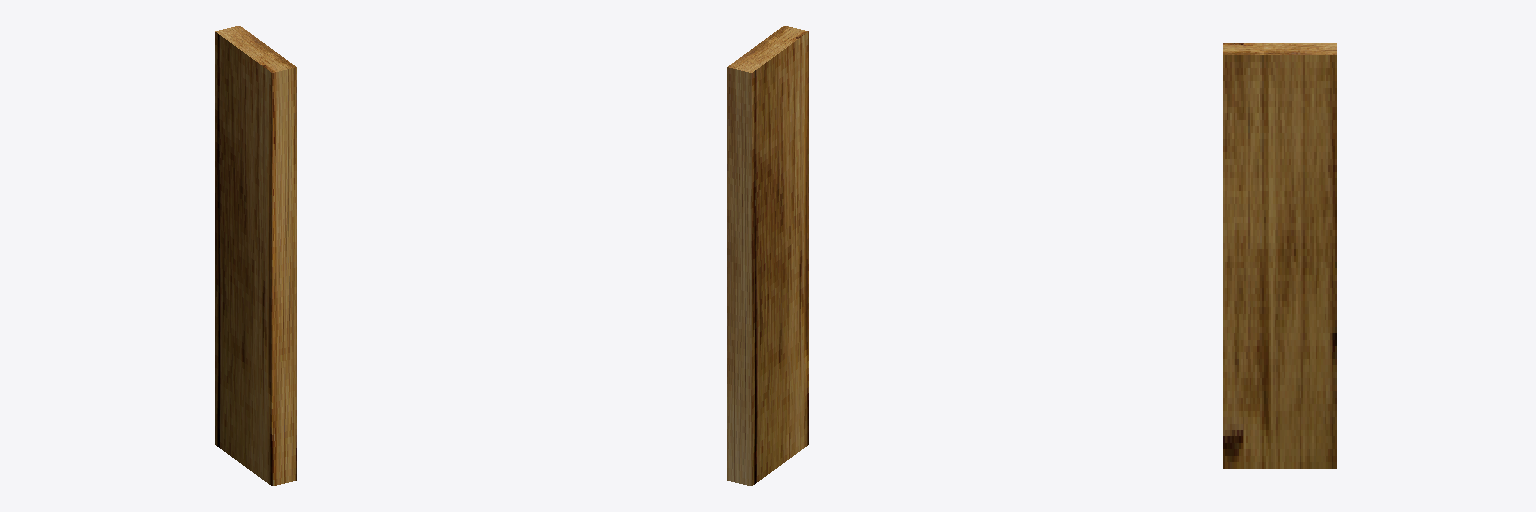
3 renders of one model, left to right at view 1: azimuth 30°, elevation 25°; view 2: azimuth 150°, elevation 25°; view 3: azimuth 270°, elevation 25°, orthographic.
Visible parts, largest first — view 1: pCube1; view 2: pCube1; view 3: pCube1.
Part boxes in pixels (x1,y1,x2,y2): pCube1: (215,26,296,485); pCube1: (727,26,808,485); pCube1: (1223,43,1336,468).
Size of the model in its own units: 0.25 by 4 by 1.
1 materials, 1 textured.